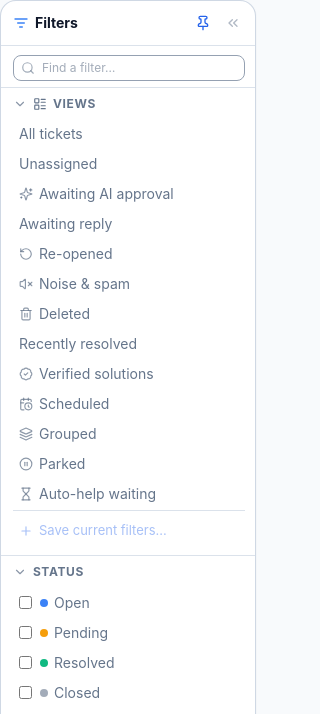
TicketFilterRail — Find a filter › typing keeps only matching sections; Escape brings them all back
Check: the text "Views" is shown, box [53,96,96,112]
Step 1. Type "PRI" into the search field with test id "rail-find" → (129, 68), box [13,55,245,81]
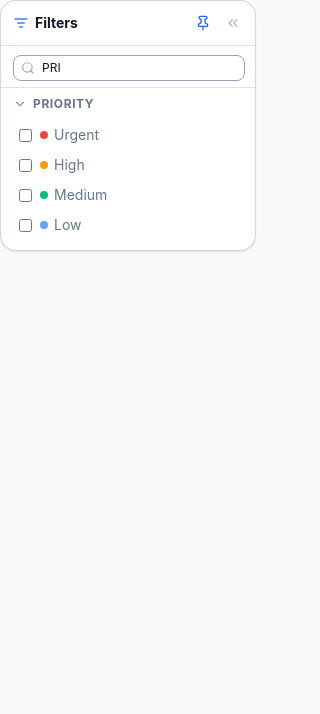
Check: the text "Priority" is shown, box [33,96,94,112]
Check: the button "Views" is gone
Check: the button "Status" is gone
Step 2. Press Escape in the search field with test id "rail-find", box [13,55,245,81]
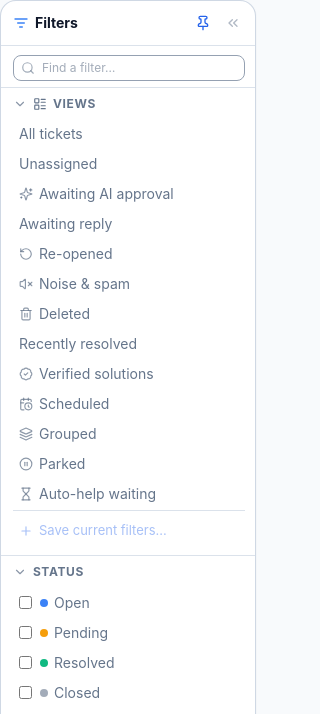
Check: the search field with test id "rail-find" is empty, box [13,55,245,81]
Check: the text "Views" is shown, box [53,96,96,112]
